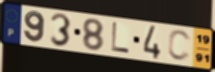3: (49, 12, 73, 49)
4: (143, 24, 163, 62)
8: (81, 17, 106, 52)
9: (23, 10, 46, 44)
C: (166, 29, 193, 63)
L: (110, 21, 132, 55)
